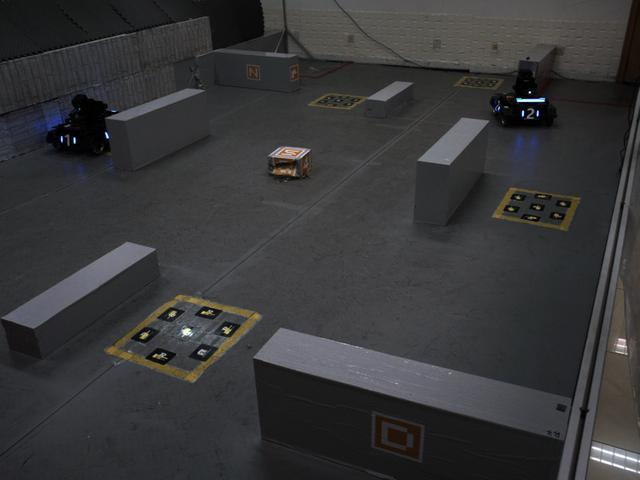armor: (517, 105, 544, 123), (56, 130, 79, 150)
